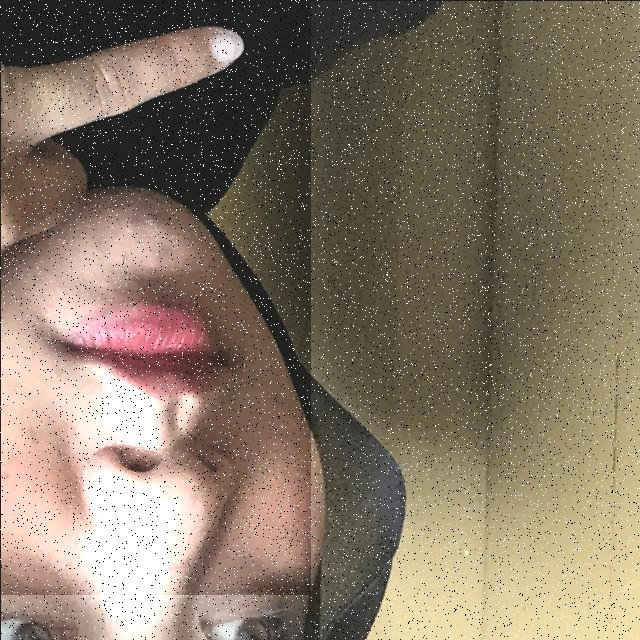telpon: (0, 0, 310, 594)
